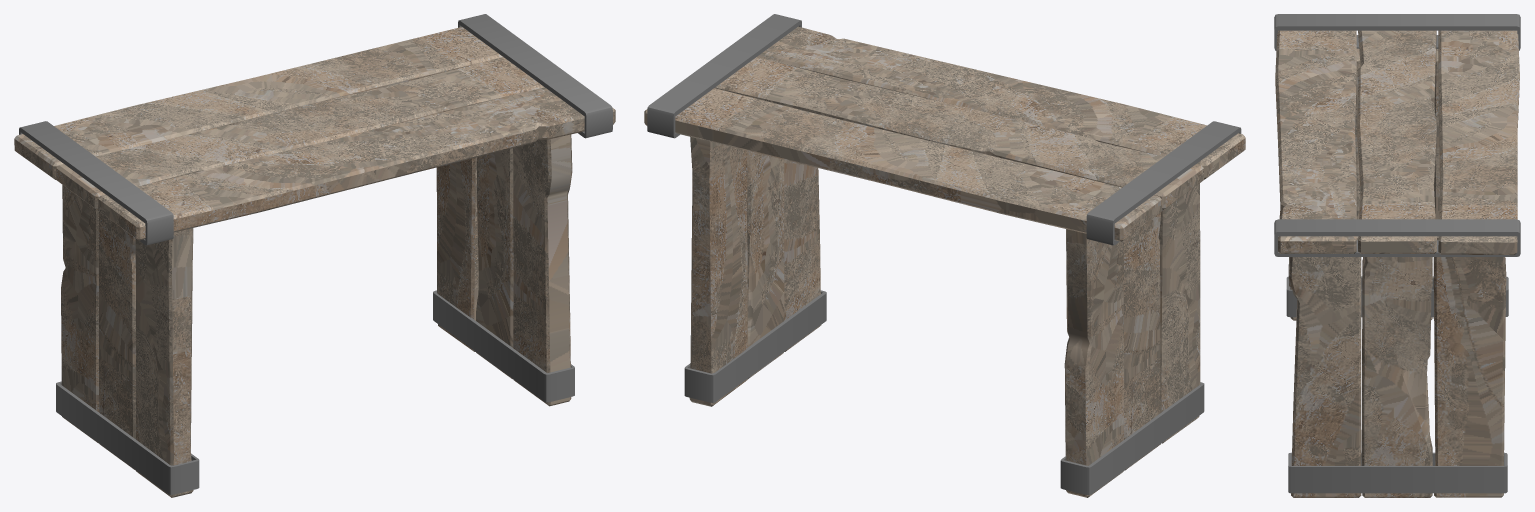
File: SM_Table.fbx
The picture shows the model from 3 angles, left to right: view 1: azimuth 30°, elevation 25°; view 2: azimuth 150°, elevation 25°; view 3: azimuth 270°, elevation 25°; orthographic projection. The views are drawn at different scales.
Visible parts, largest first — view 1: Table; view 2: Table; view 3: Table.
Boxes of the visible parts, x1,y1,x2,y2 form: Table: (14,14,615,497); Table: (644,14,1245,497); Table: (1274,14,1520,497).
Bounding box in the file's own units: 1.3 × 0.7636 × 0.6041.
